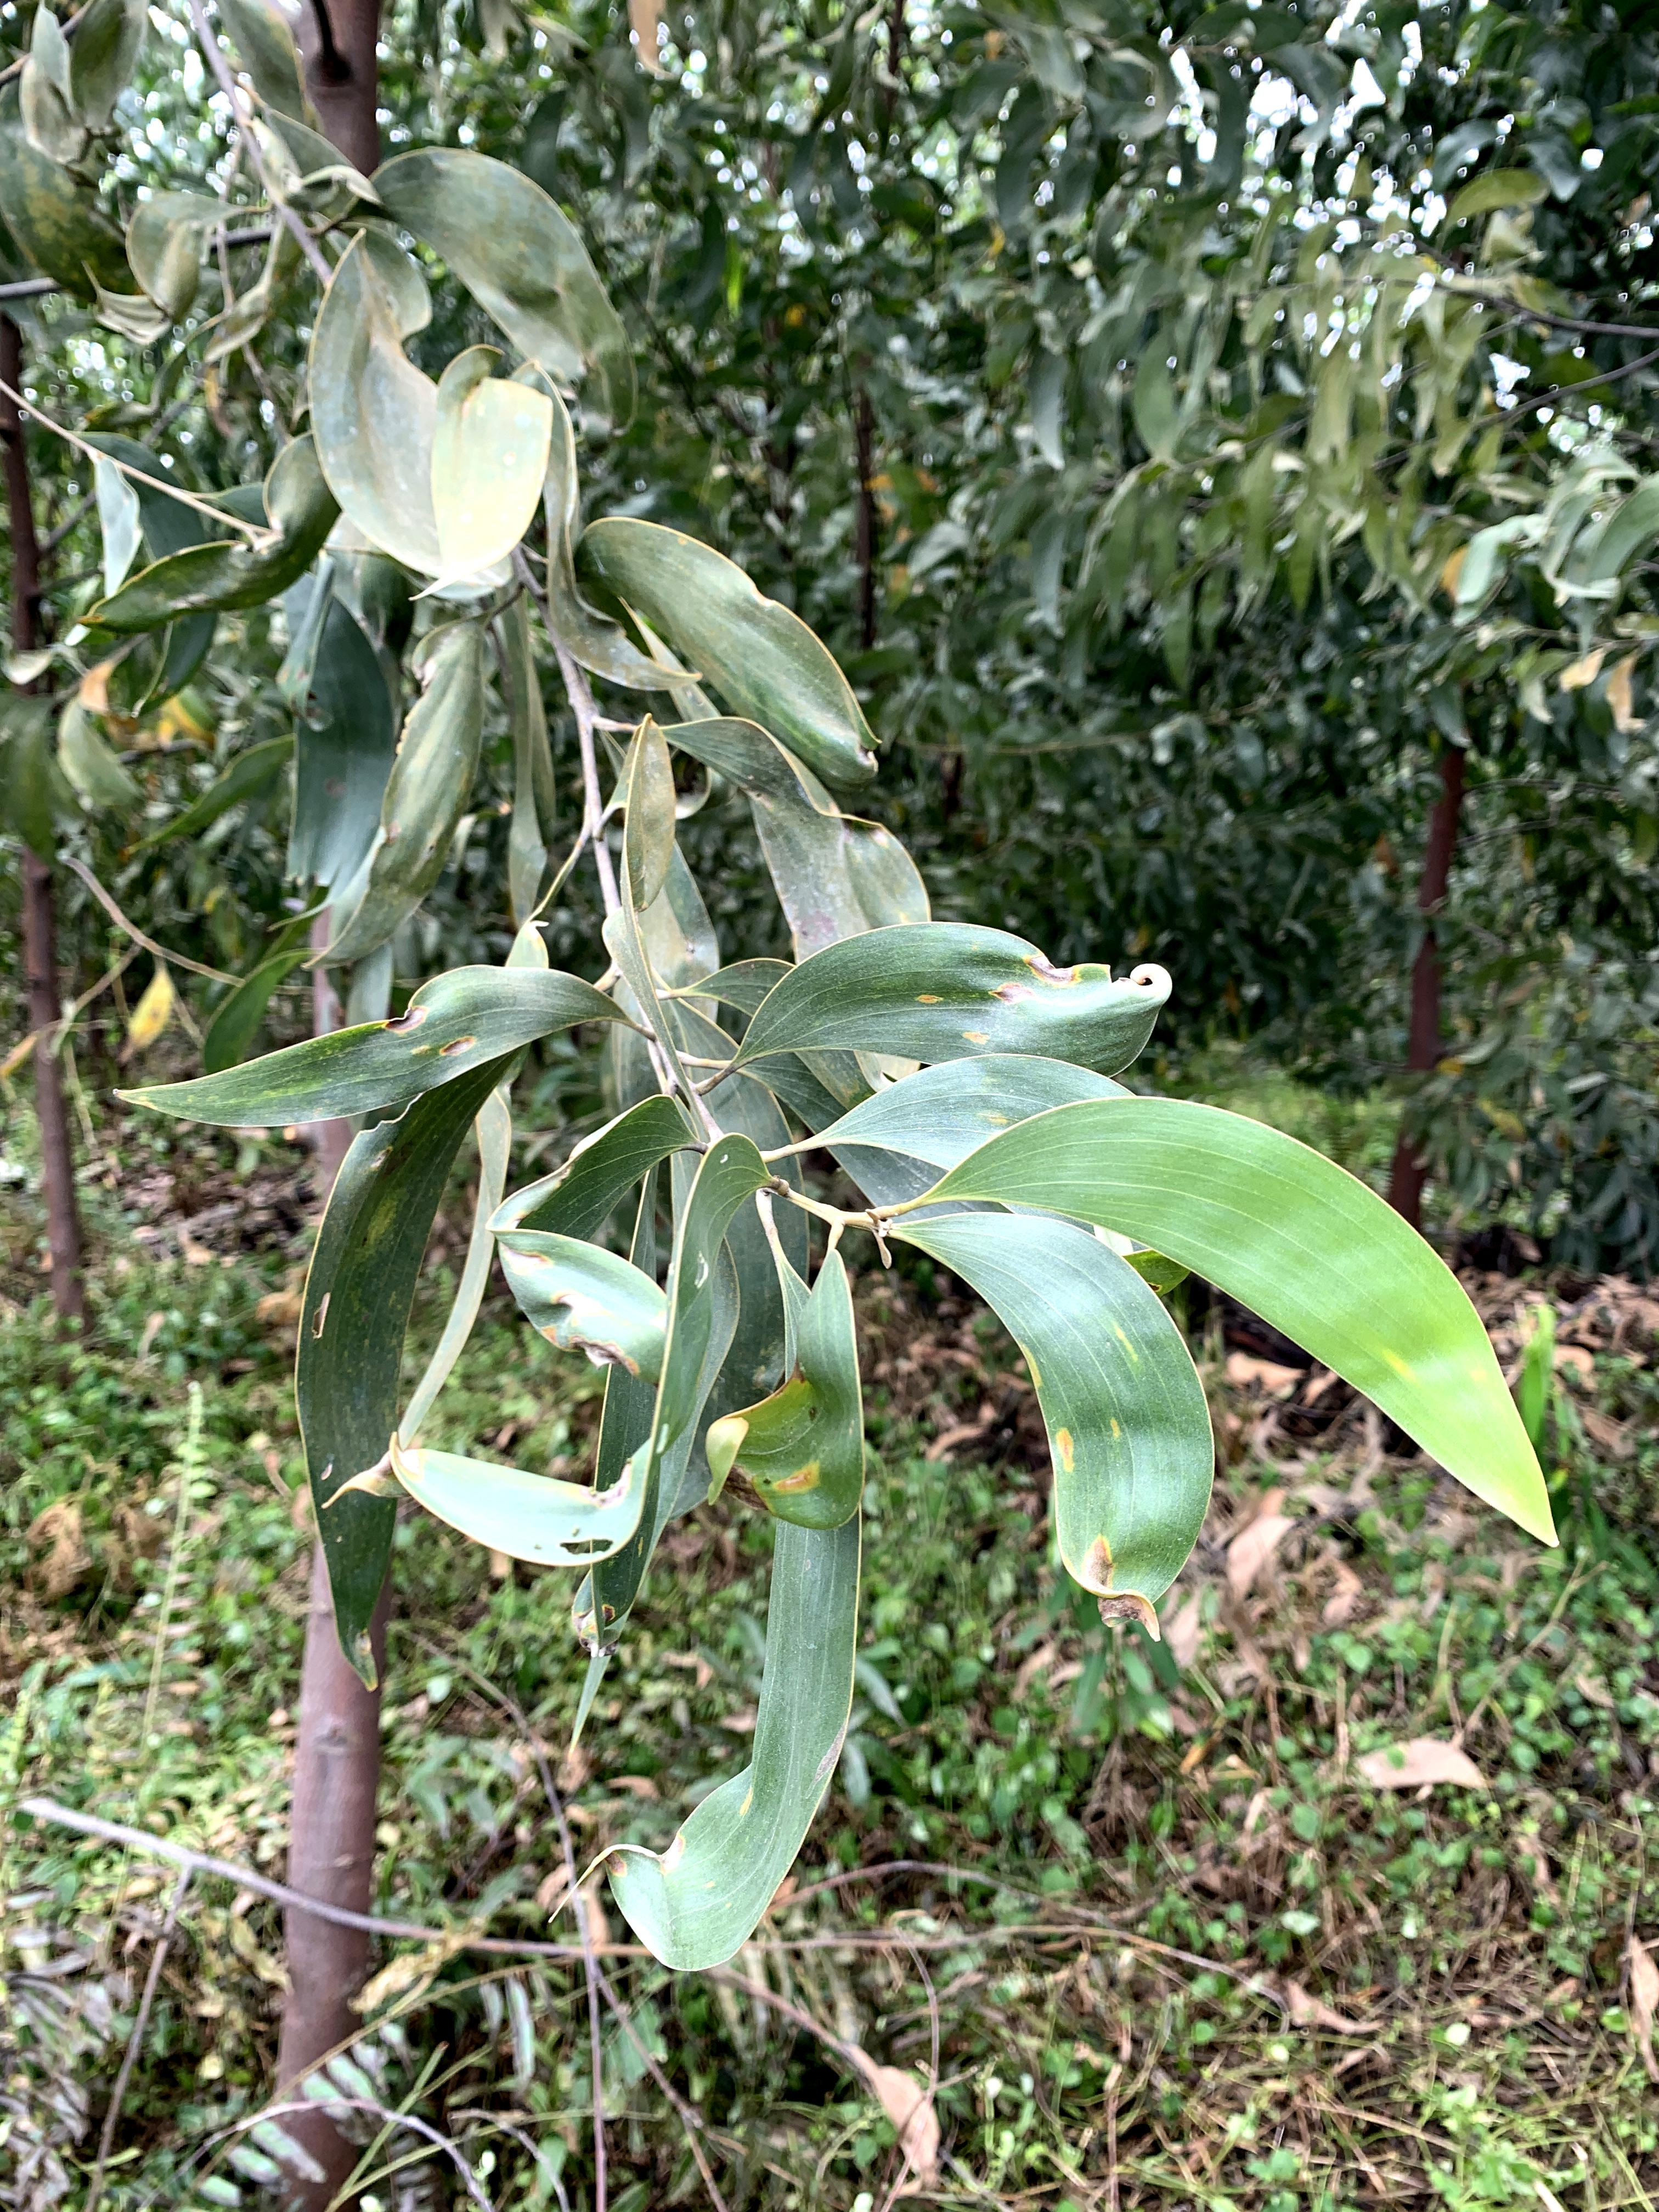Pasalora: (486, 1080, 683, 1402), (551, 1747, 735, 2017), (89, 491, 277, 665), (699, 1350, 836, 1557), (995, 913, 1185, 1052), (84, 181, 216, 357), (1058, 1498, 1183, 1669)
